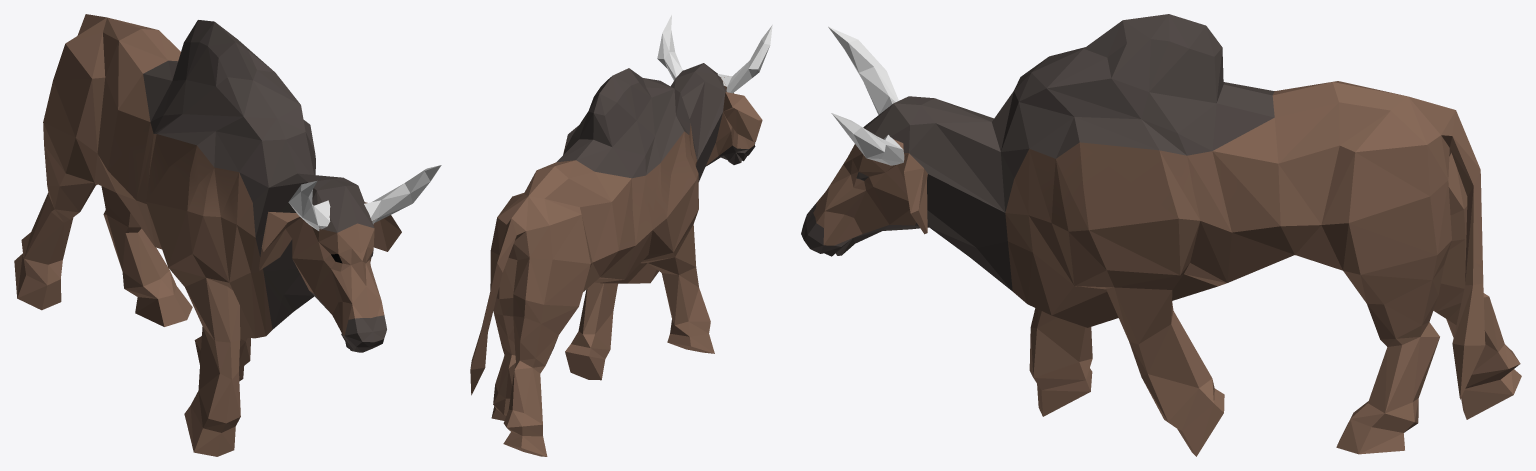
The model's file is toro_4.obj.
3 views of the same model, side by side, from view 1: azimuth 30°, elevation 25°; view 2: azimuth 150°, elevation 25°; view 3: azimuth 270°, elevation 25° (orthographic). The views are drawn at different scales.
Visible parts, largest first — view 1: Mesh1FBXASC032Model; view 2: Mesh1FBXASC032Model; view 3: Mesh1FBXASC032Model.
Part boxes in pixels (x1,y1,x2,y2): Mesh1FBXASC032Model: (14,14,441,456); Mesh1FBXASC032Model: (470,15,772,456); Mesh1FBXASC032Model: (801,14,1521,456).
Bounding box in the file's own units: 261 × 621 × 950.
Materials: 1 (1 with a texture image).
